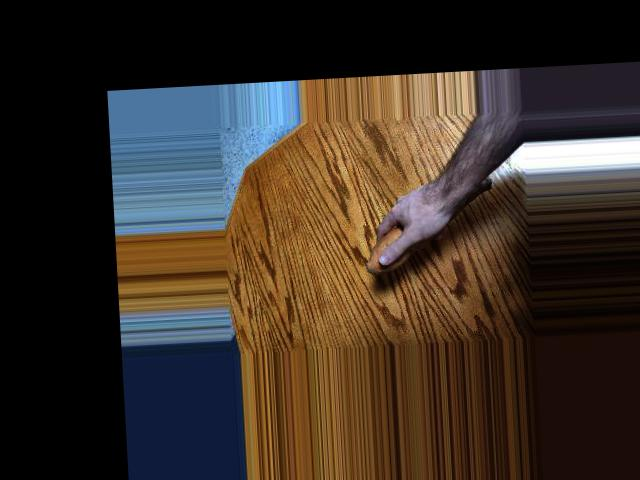sweet_potato: (362, 175, 500, 275)
